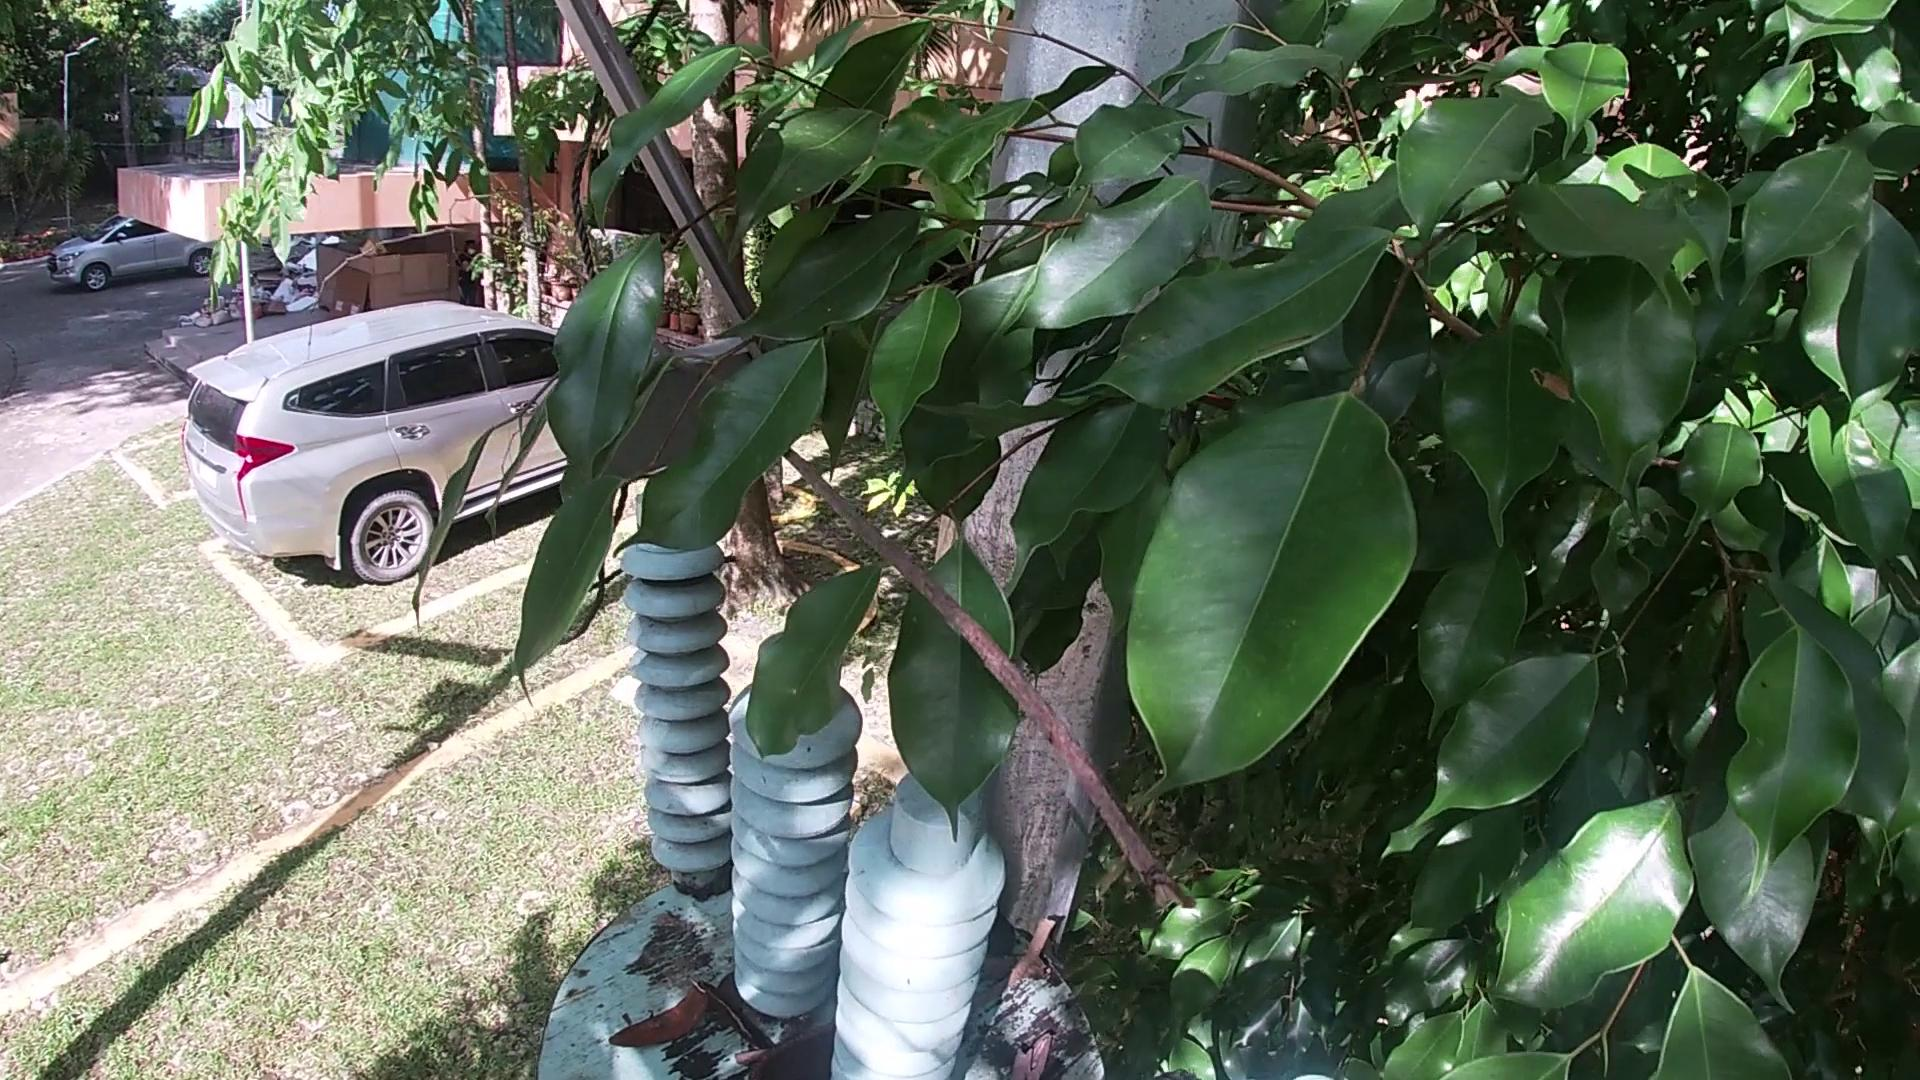leaf: (711, 975, 778, 1054)
mahogany fruit: (611, 990, 705, 1055), (737, 1033, 849, 1072)
tree branch: (671, 327, 1200, 920), (975, 916, 1065, 1007), (994, 1033, 1062, 1080), (975, 957, 1056, 978)
